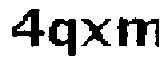4: (8, 4, 46, 51)
m: (115, 14, 160, 51)
q: (45, 15, 81, 60)
x: (80, 16, 113, 49)
